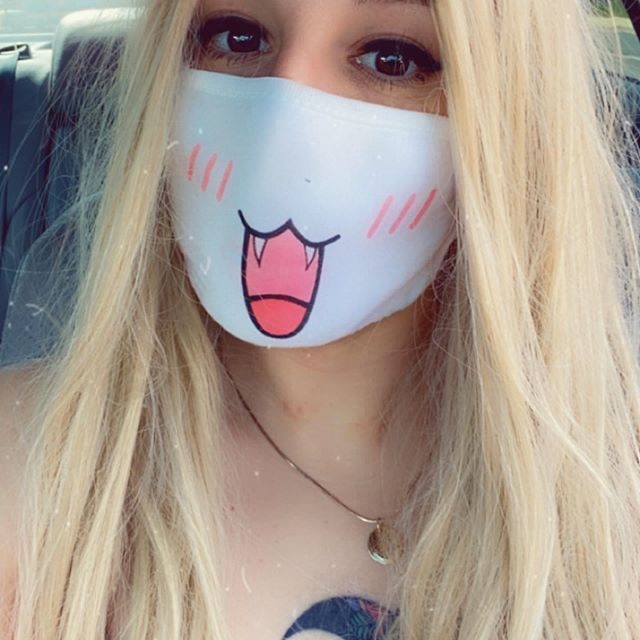homemade: (141, 65, 470, 342)
